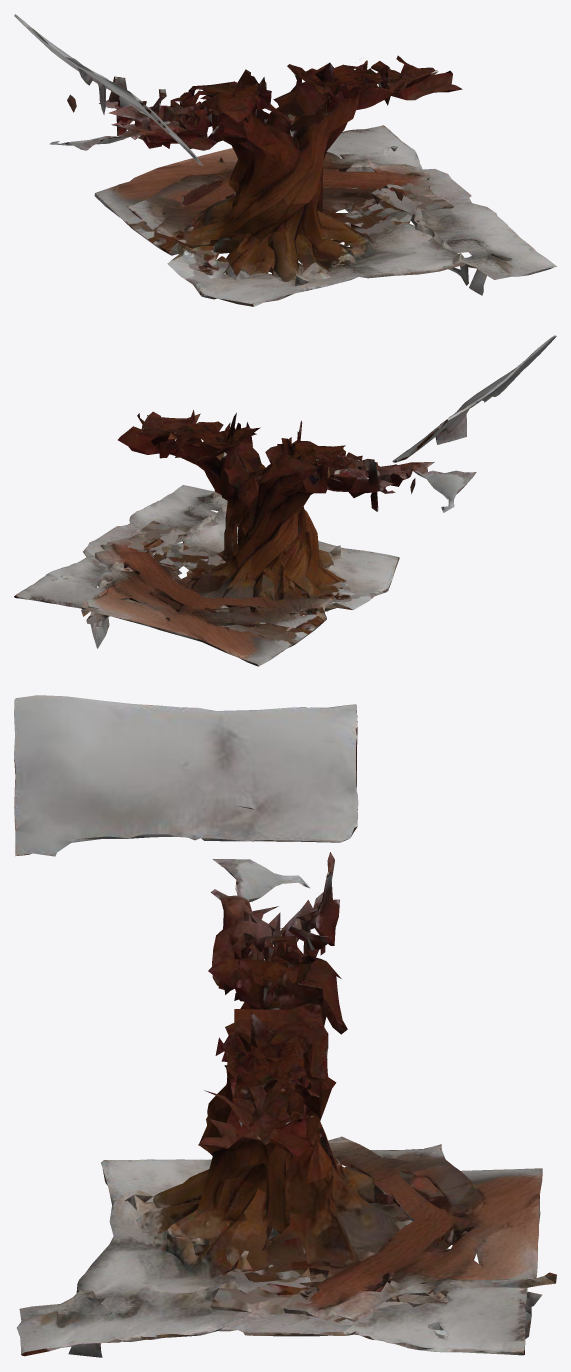
File: ashikaga-flower-park.glb
3 views of the same model, one above another, from view 1: azimuth 30°, elevation 25°; view 2: azimuth 150°, elevation 25°; view 3: azimuth 270°, elevation 25° (orthographic). The views are drawn at different scales.
Visible parts, largest first — view 1: logan-textured.obj; view 2: logan-textured.obj; view 3: logan-textured.obj.
Boxes of the visible parts, box(x1,y1,x2,y2) form: logan-textured.obj: box(14, 14, 556, 306); logan-textured.obj: box(14, 335, 556, 666); logan-textured.obj: box(14, 695, 556, 1357).
Size of the model in its own units: 1 by 0.6733 by 0.7904.
1 material, 1 textured.
